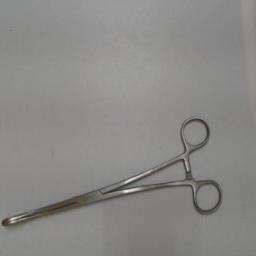Sponge Forceps: (2, 110, 226, 234)
